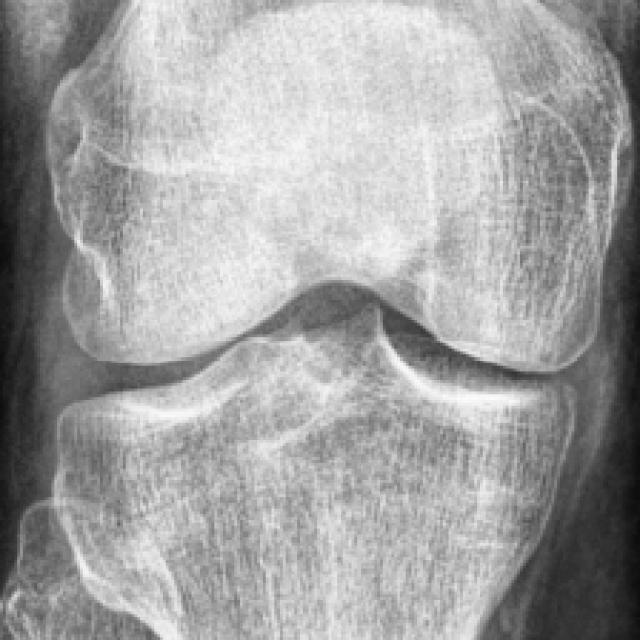femur: (46, 0, 634, 373)
tibia: (50, 304, 578, 640)
